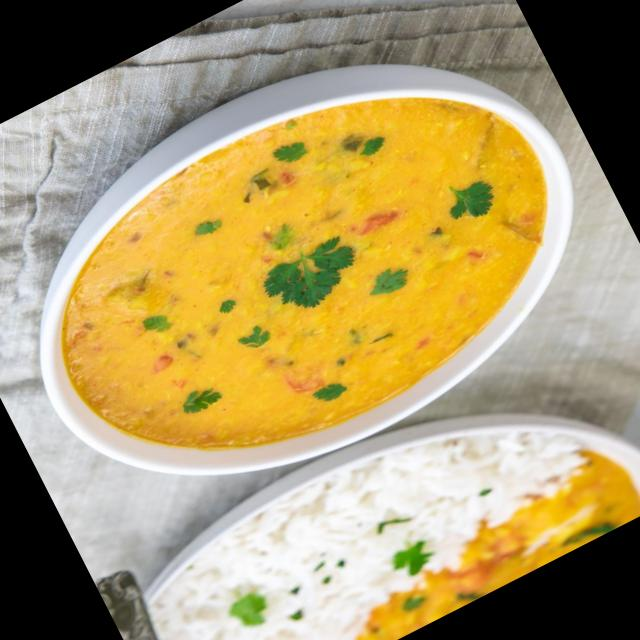dal: (26, 14, 595, 519)
rice: (132, 385, 560, 640)
